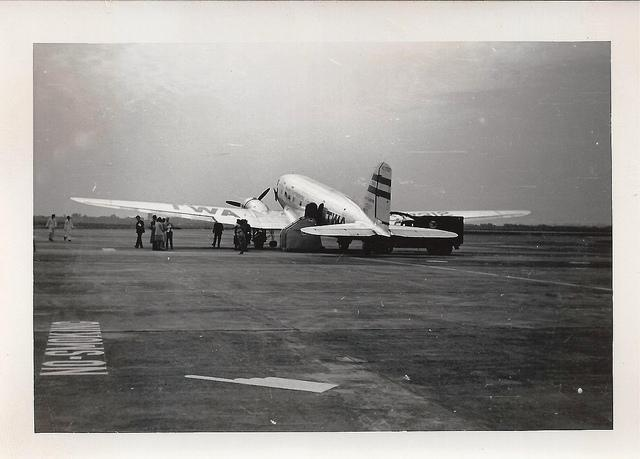truck: (394, 218, 465, 247)
